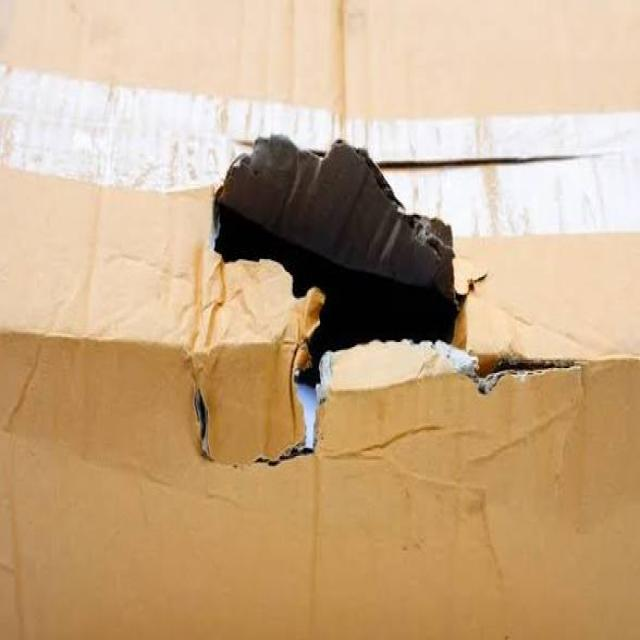package_damage: (146, 80, 587, 491)
